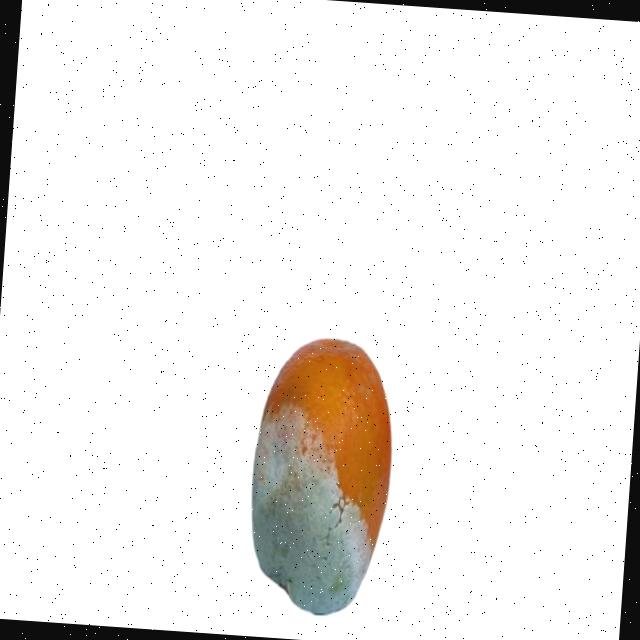rotten orange: (240, 332, 400, 620)
